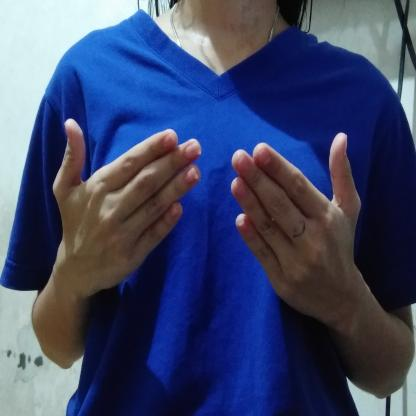night: (45, 116, 367, 333)
